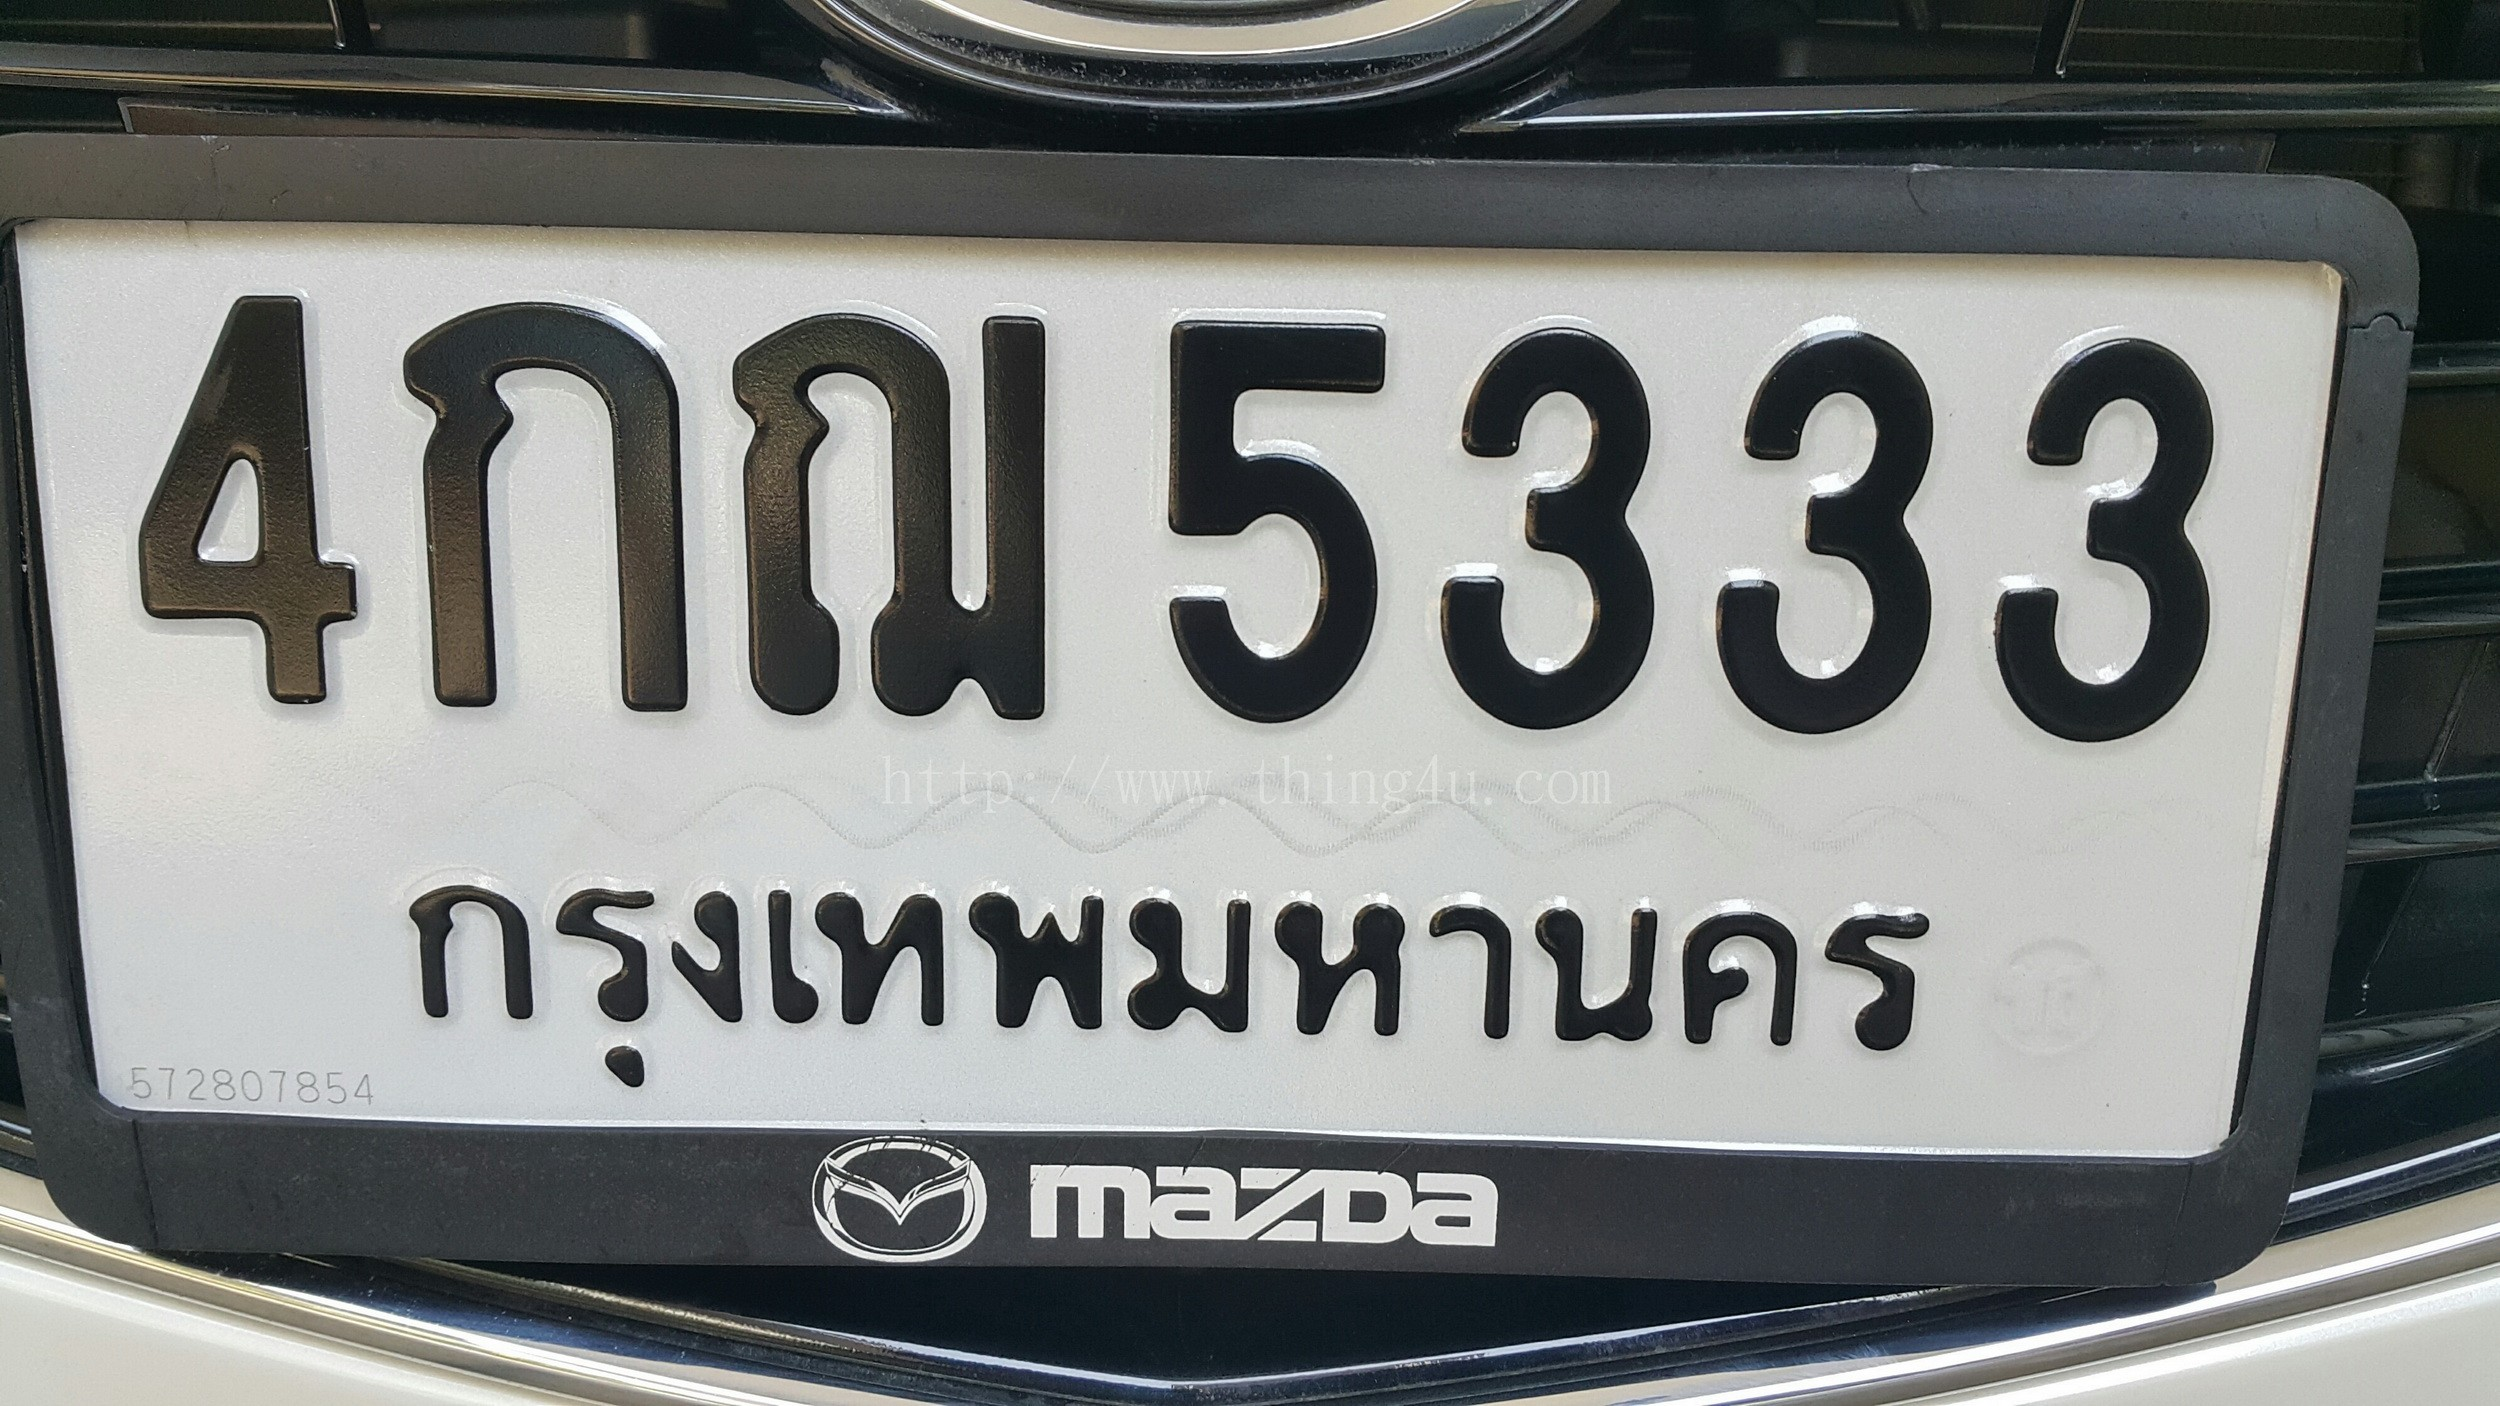Bangkok: (395, 795, 1939, 1121)
